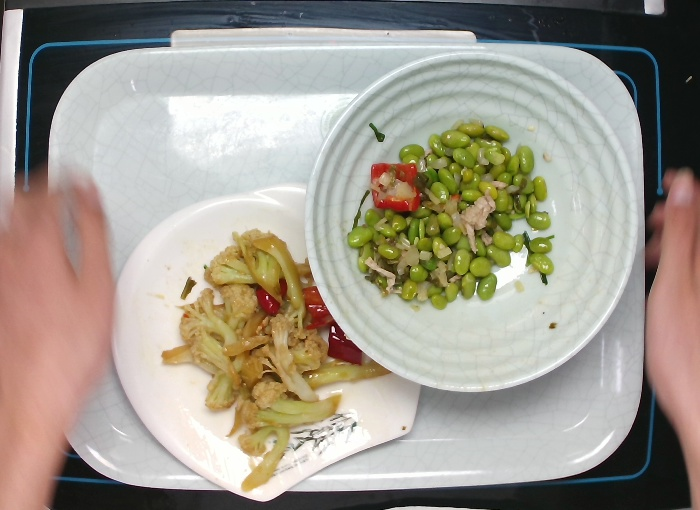JYsf-Da_Tang_Wan: (301, 49, 640, 394)
JYsf-Mian_Pan: (110, 181, 420, 503)
